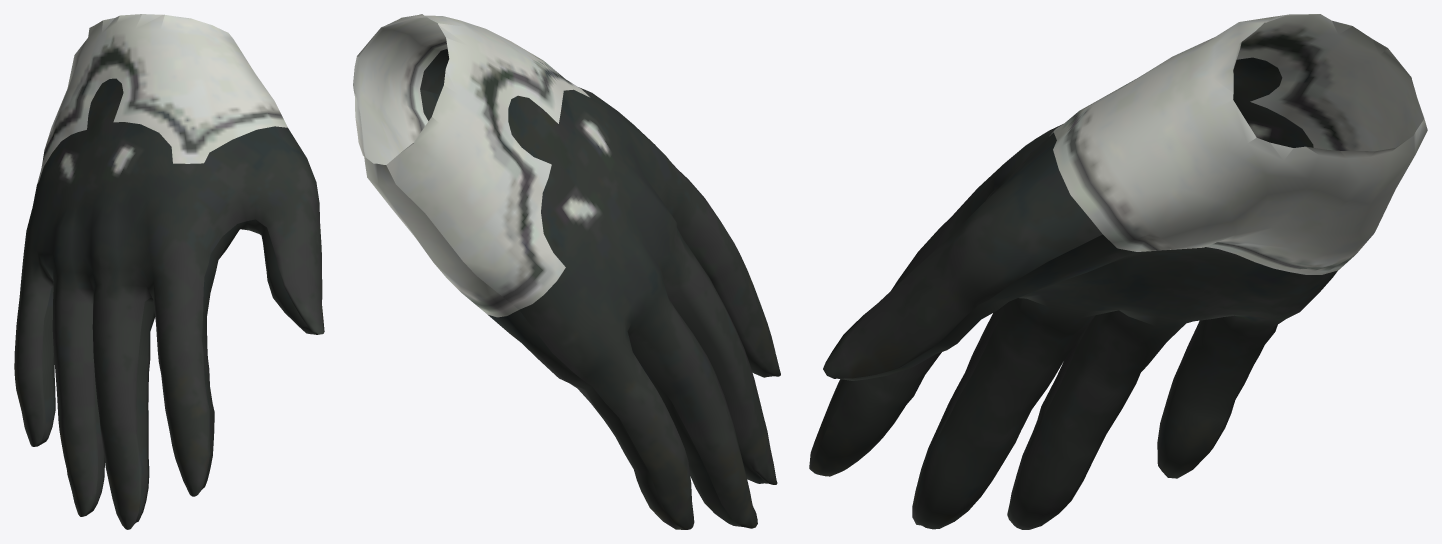
Rendered from righthand.obj.
The picture shows the model from 3 angles, left to right: view 1: azimuth 30°, elevation 25°; view 2: azimuth 150°, elevation 25°; view 3: azimuth 270°, elevation 25°; orthographic projection. The views are drawn at different scales.
Visible parts, largest first — view 1: righthand:Object01 righthand:polySurface2 righthand:polySurface4, righthand:Object01 righthand:polySurface2 righthand:polySurface3; view 2: righthand:Object01 righthand:polySurface2 righthand:polySurface4, righthand:Object01 righthand:polySurface2 righthand:polySurface3; view 3: righthand:Object01 righthand:polySurface2 righthand:polySurface4, righthand:Object01 righthand:polySurface2 righthand:polySurface3.
Part boxes in pixels (bbox=[...]): righthand:Object01 righthand:polySurface2 righthand:polySurface4: bbox=[14, 78, 324, 529]; righthand:Object01 righthand:polySurface2 righthand:polySurface3: bbox=[37, 14, 287, 184]; righthand:Object01 righthand:polySurface2 righthand:polySurface4: bbox=[420, 48, 780, 529]; righthand:Object01 righthand:polySurface2 righthand:polySurface3: bbox=[353, 14, 589, 317]; righthand:Object01 righthand:polySurface2 righthand:polySurface4: bbox=[809, 57, 1337, 529]; righthand:Object01 righthand:polySurface2 righthand:polySurface3: bbox=[1050, 14, 1427, 274].
Size of the model in its own units: 1.99 by 3.26 by 2.93.
Materials: 1 (1 with a texture image).
